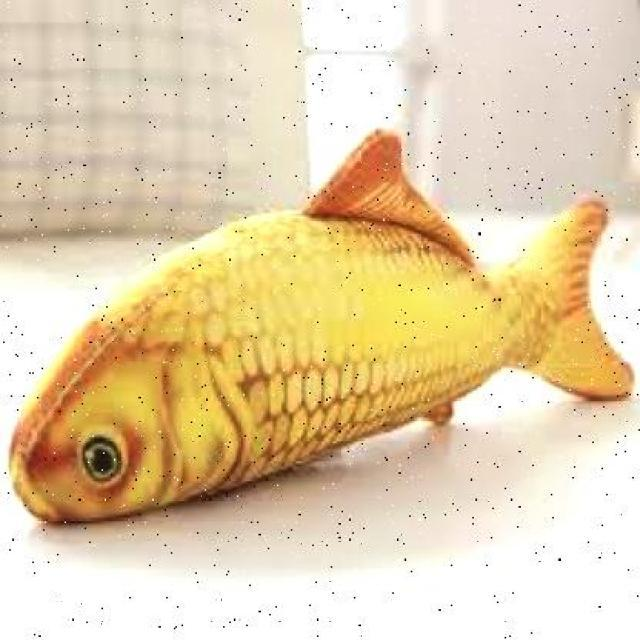ikan-mas: (5, 163, 610, 522)
